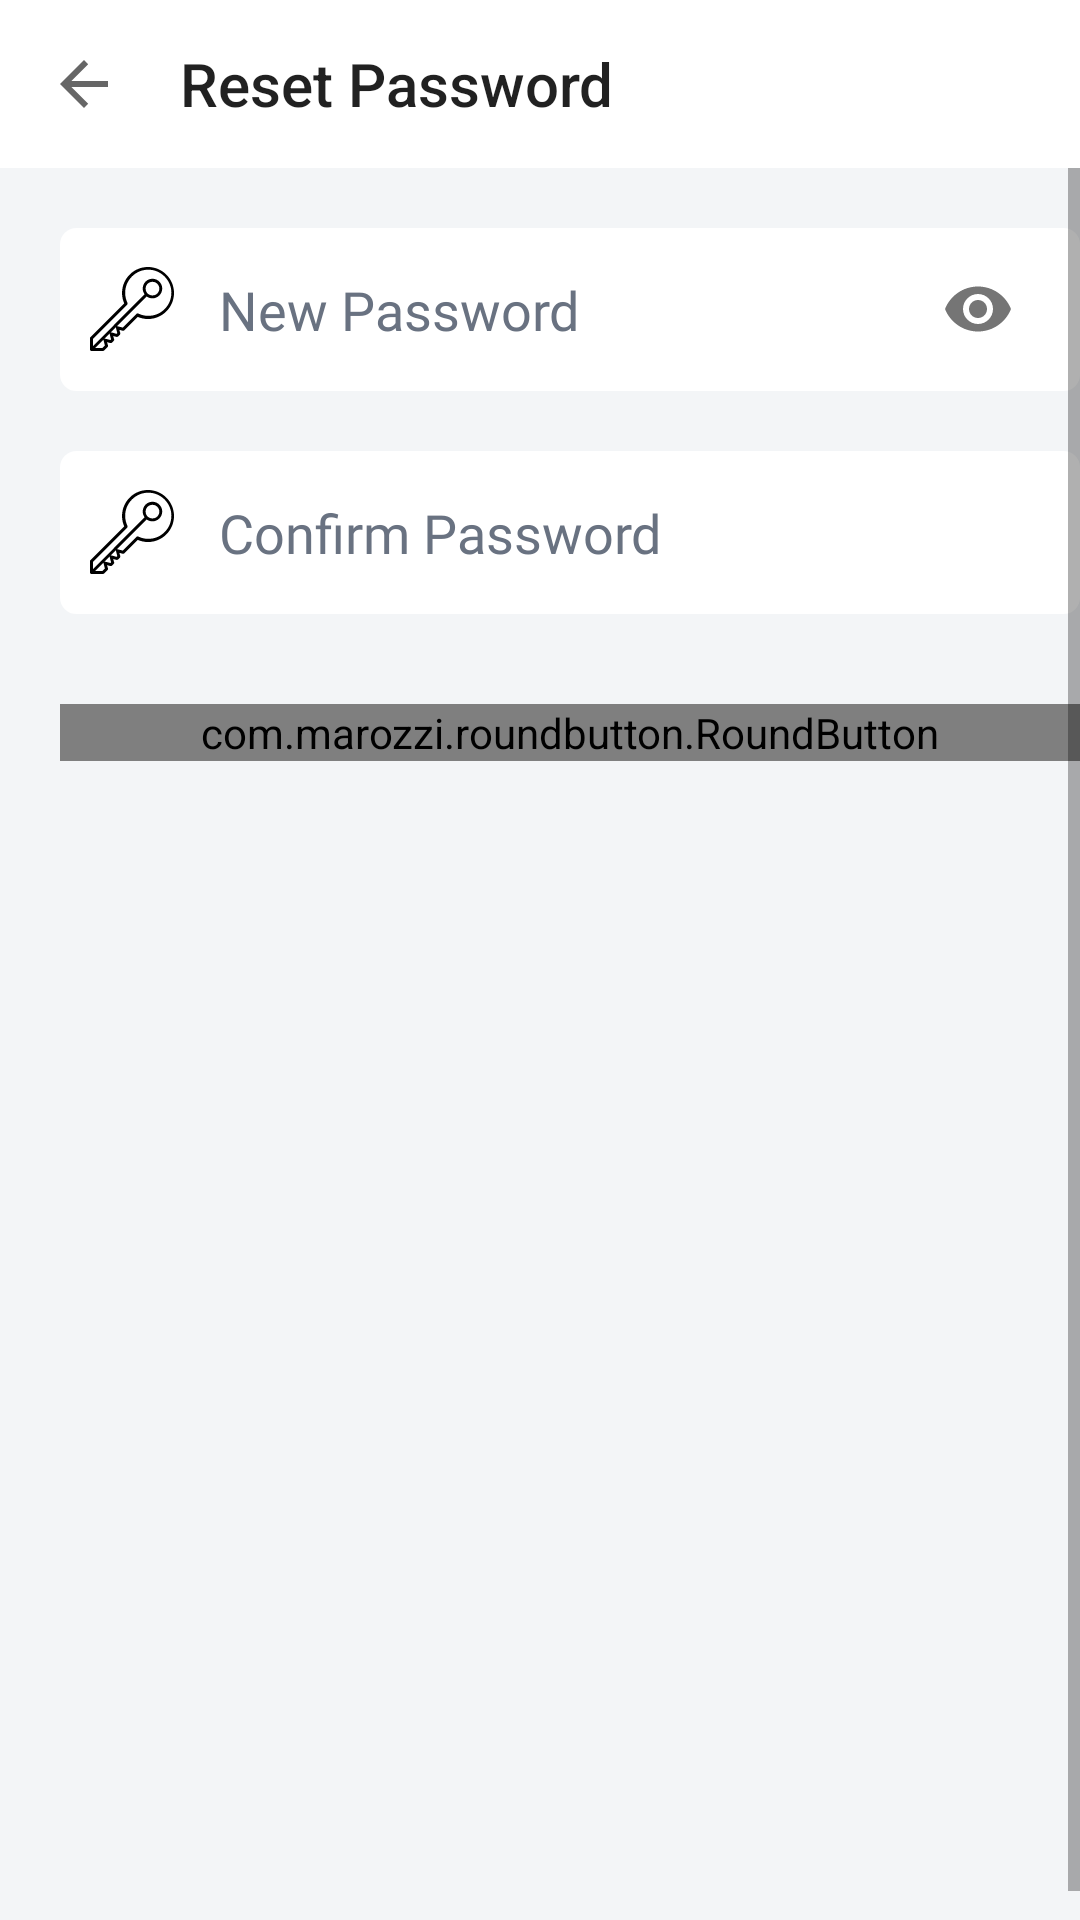

Locate icon controls on the screen. Image size 1080px×1920px, boxes as (x1, y1, x2, y2).
key: (90, 267, 174, 351), (90, 490, 174, 574)
